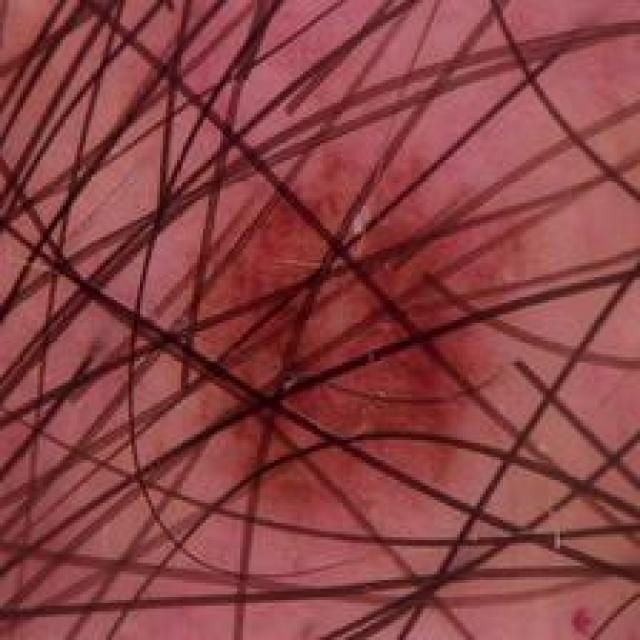Cancer: (192, 145, 525, 546)
